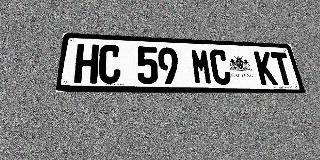5: (137, 46, 159, 84)
9: (158, 47, 180, 84)
C: (98, 45, 121, 84), (209, 49, 232, 85)
H: (74, 44, 99, 83)
K: (253, 51, 278, 85)
M: (190, 49, 213, 85)
T: (270, 52, 295, 85)
